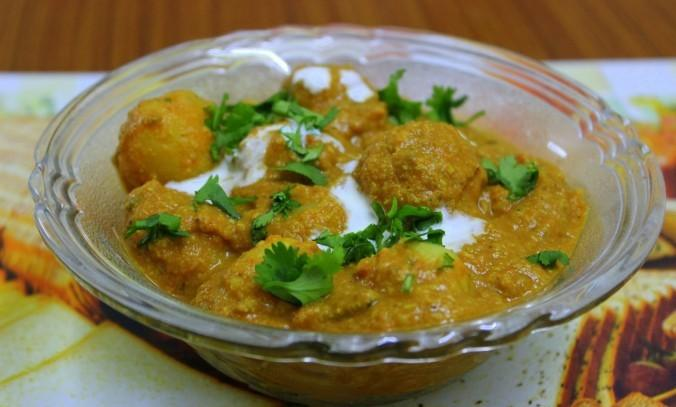DumAloo: (110, 63, 589, 332)
